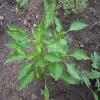Bell_pepper leaf: (43, 0, 57, 28), (6, 29, 29, 45), (4, 42, 27, 57), (67, 61, 81, 81), (71, 47, 91, 61), (43, 51, 63, 64), (69, 20, 90, 32), (6, 53, 27, 64), (19, 63, 33, 79), (54, 62, 64, 82)
